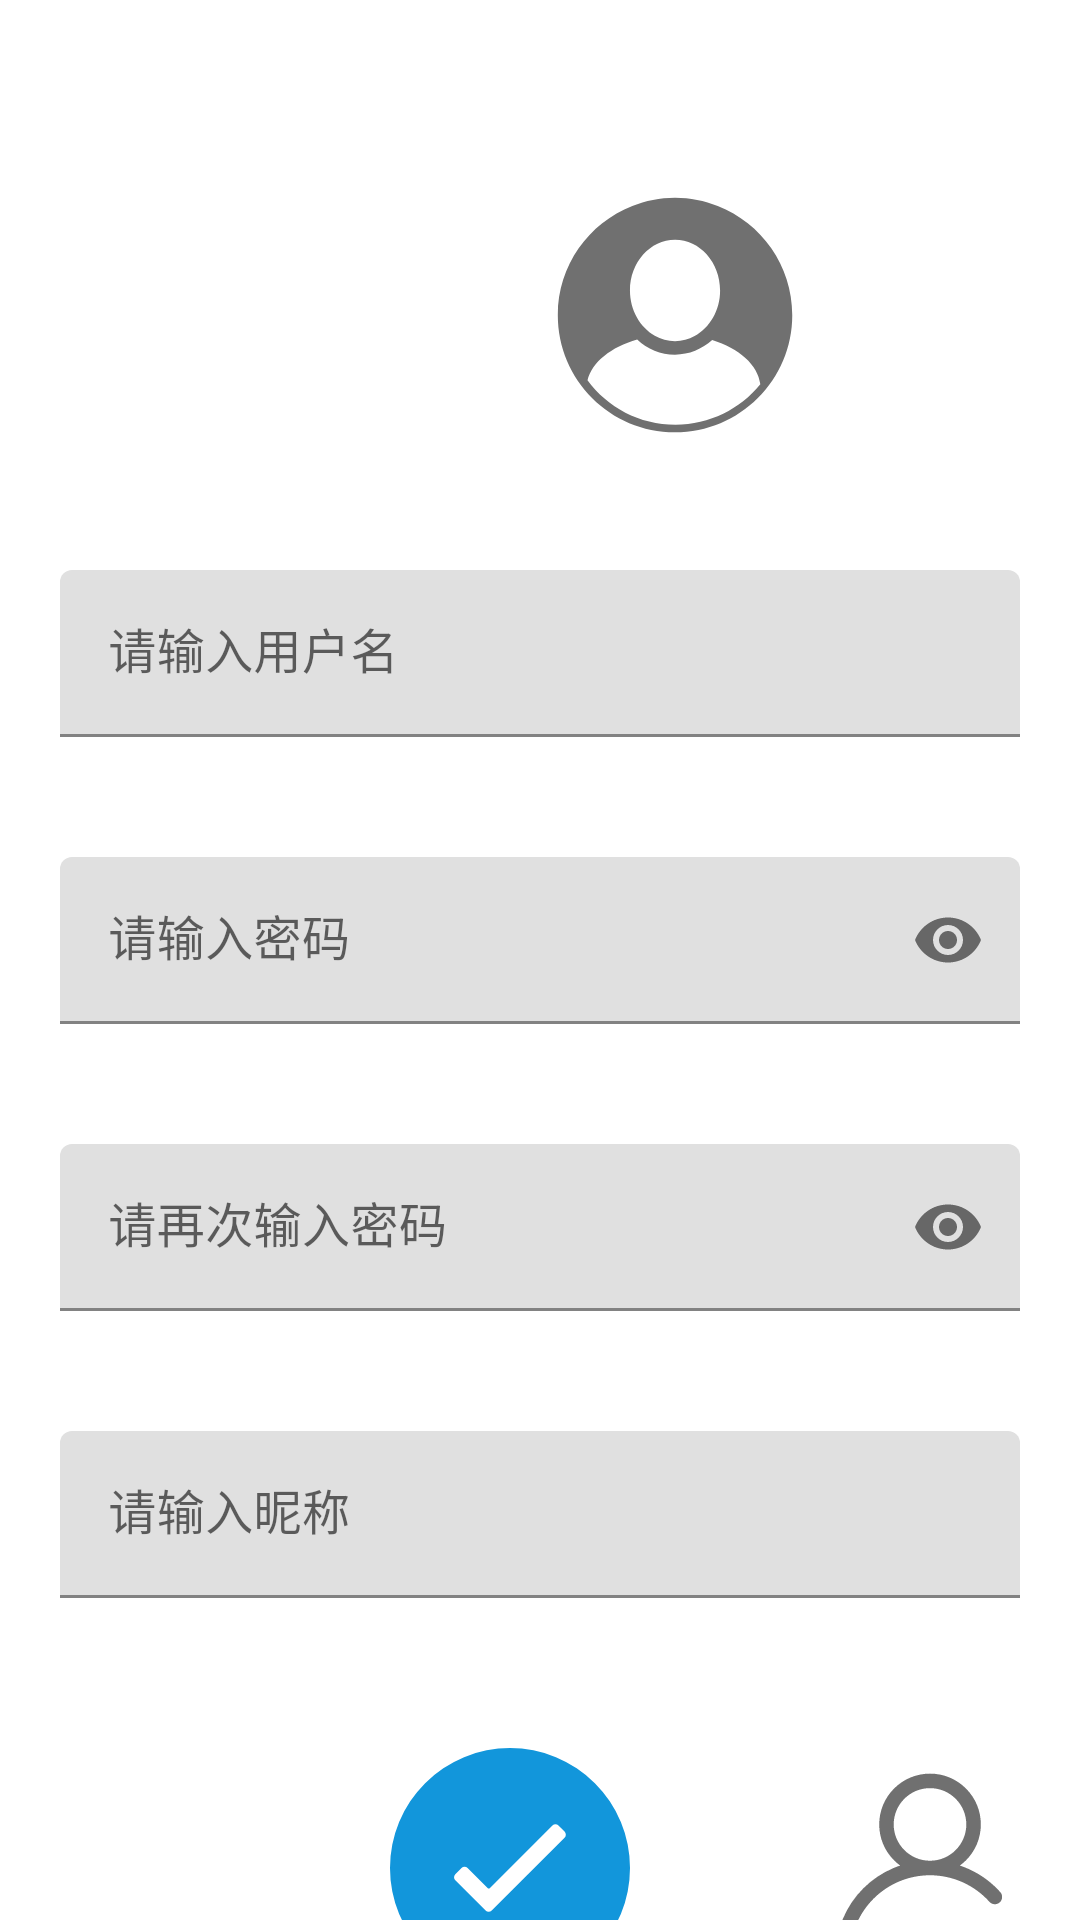

Named icons in this screenshot (1080 x 1920) and their centers, (x,y):
head: (675,315)
